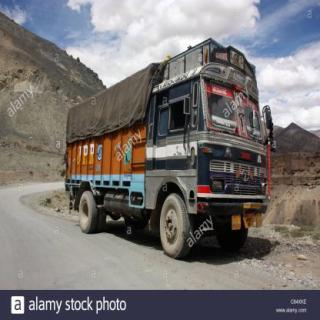Normal_vehicle: (63, 35, 276, 260)
